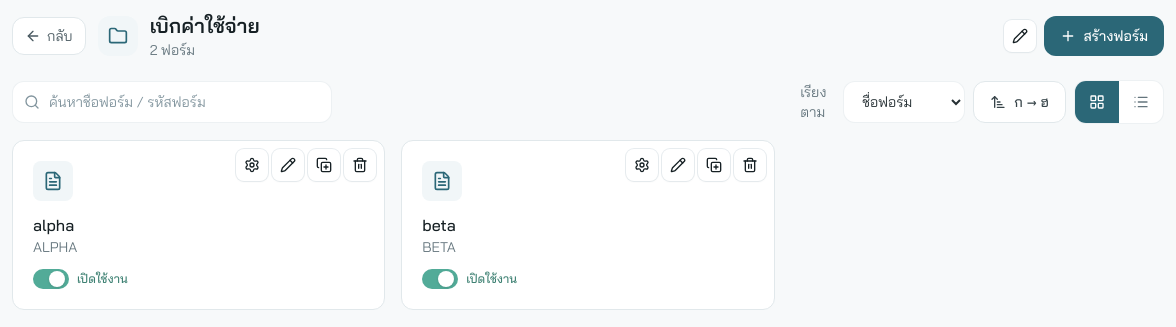
Test: GroupPage view switch › still searches in list view
This screenshot has width=1176, height=327.
Expected: the text "alpha" is shown, [33,215,74,235]
Click the button named "มุมมองรายการ": (1141, 102) [1119,81,1163,123]
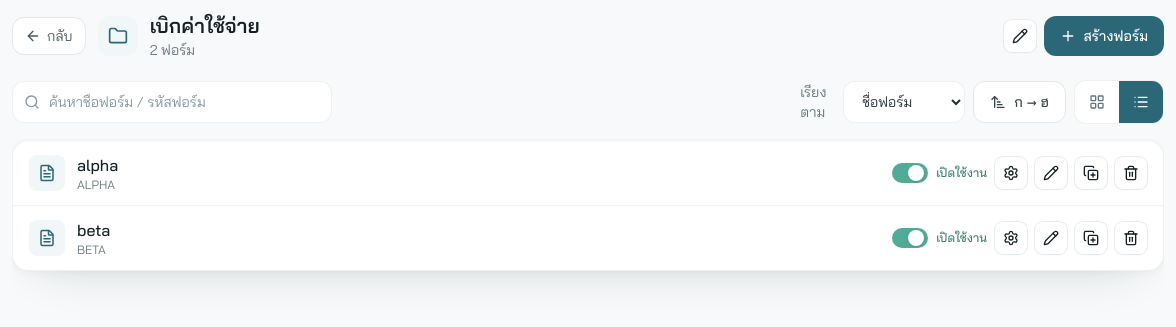
In the field with placeholder "ค้นหาชื่อฟอร์ม / รหัสฟอร์ม": (172, 102) [12,81,332,123], type "beta"
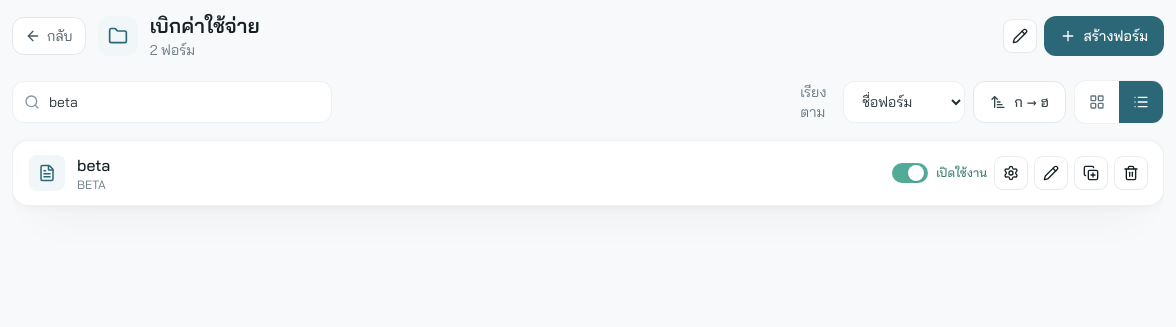
Now the number of list items is 1, box [13,141,1163,205]
Now the button "alpha" is gone
